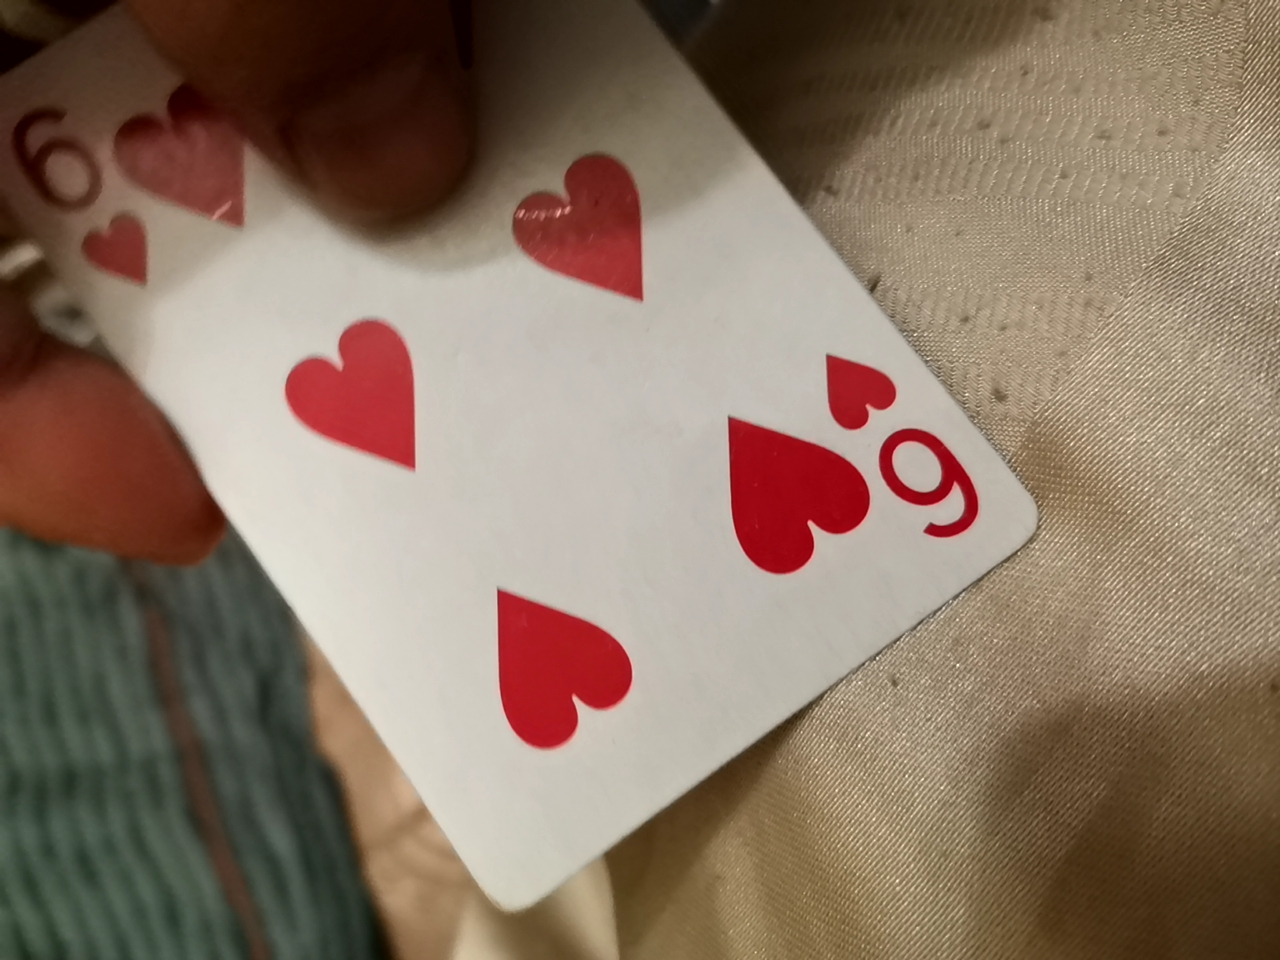hx 6: (56, 33, 1044, 925)
